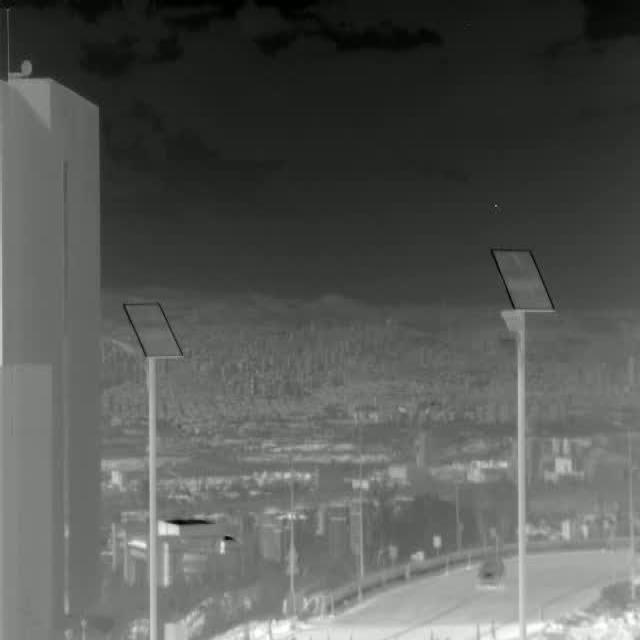Car: (478, 558, 505, 586)
